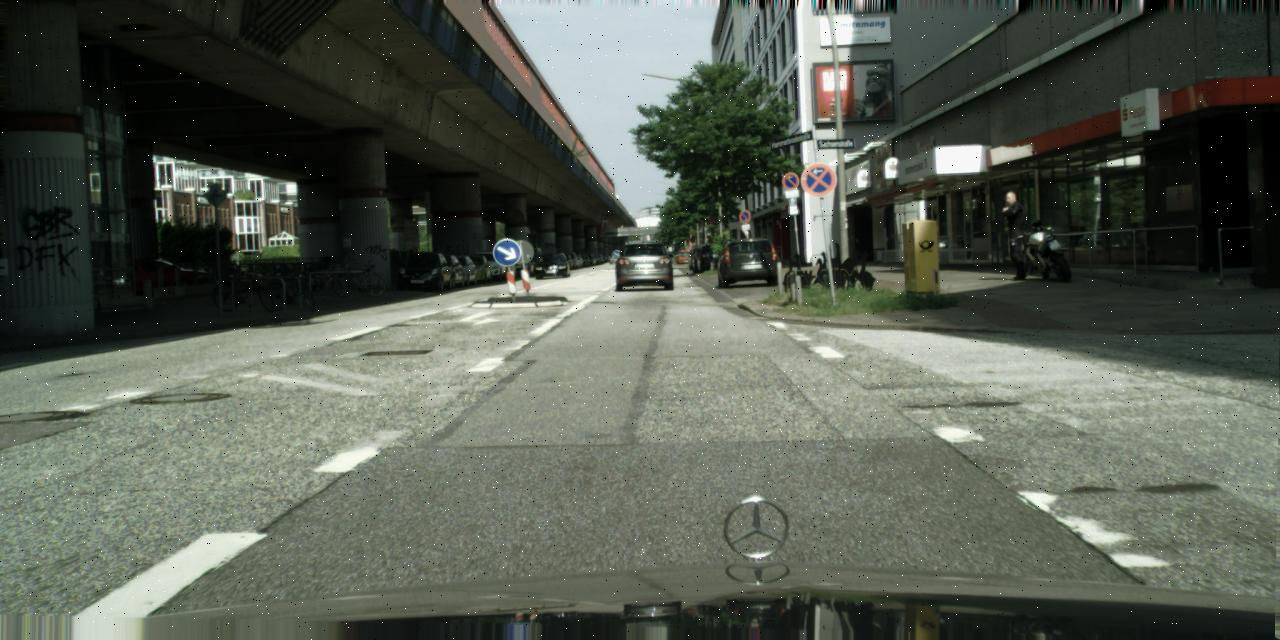ped: (997, 190, 1032, 278), (407, 246, 423, 286)
